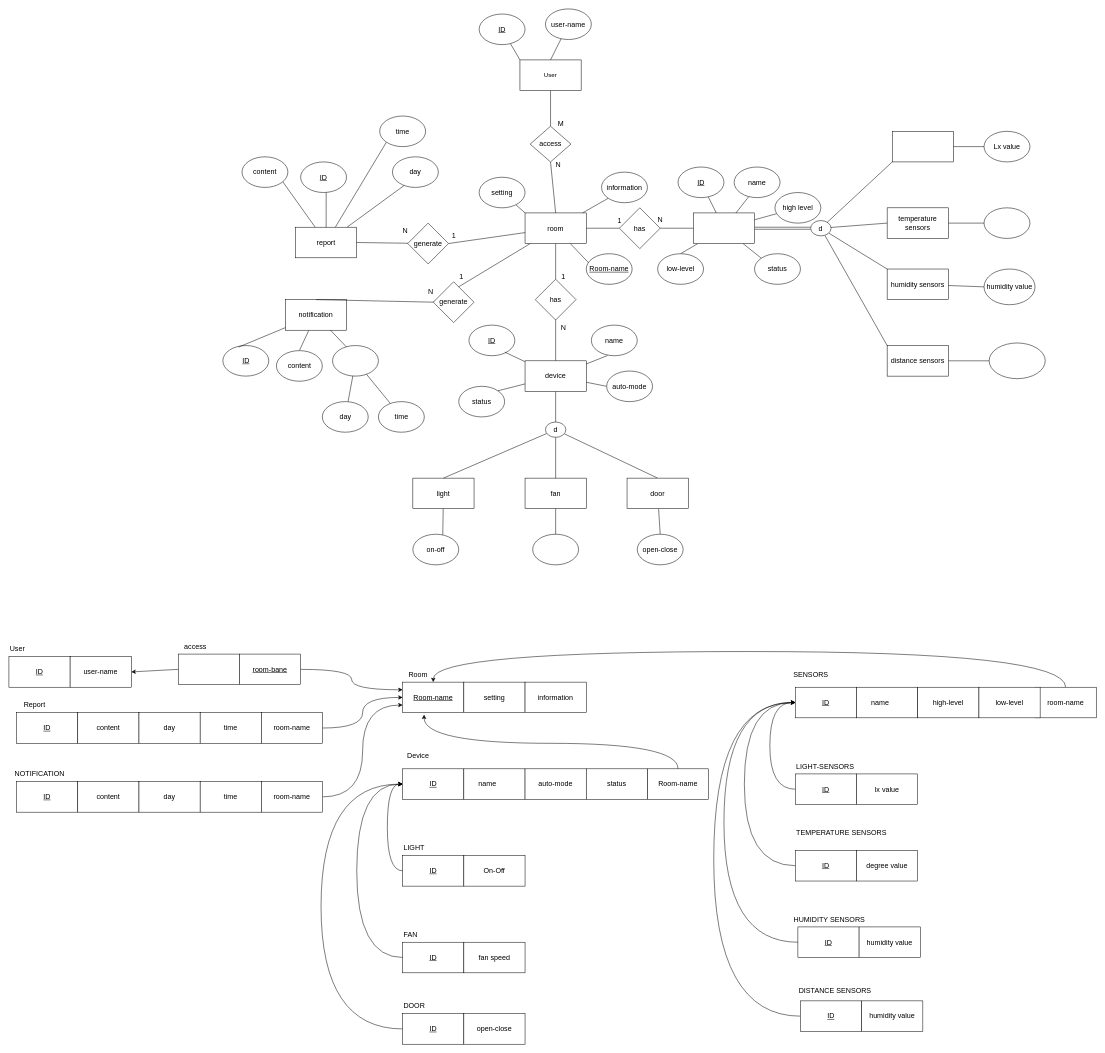
Image size: 1105x1053. Some labels were removed from this diagram. Here are the shapes that lost their labels. From the top down, the centre of each, then its label:
At (922,146): "light sensors".
At (724,228): "sensor".
At (1007,222): "degree-value".
At (355,360): "moment".
At (1017,360): "distance value".
At (555,549): "fan-speed".
At (208,669): "username".
